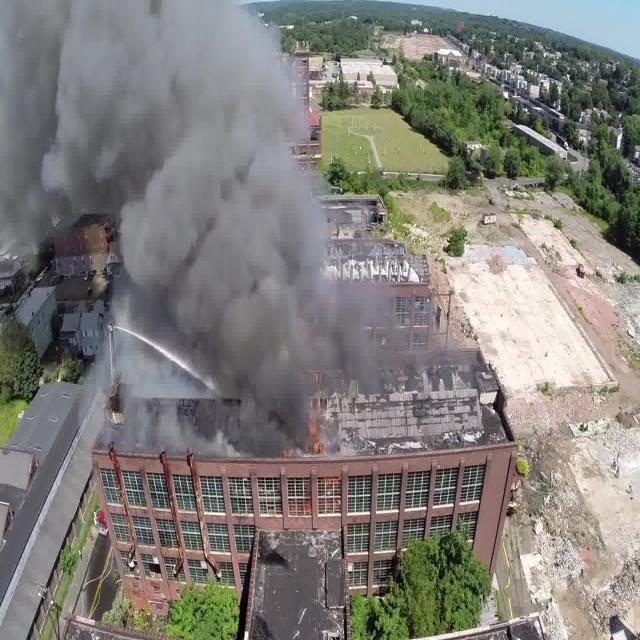Fire: (306, 400, 326, 446), (295, 490, 313, 525)
Smoke: (0, 0, 435, 454)
